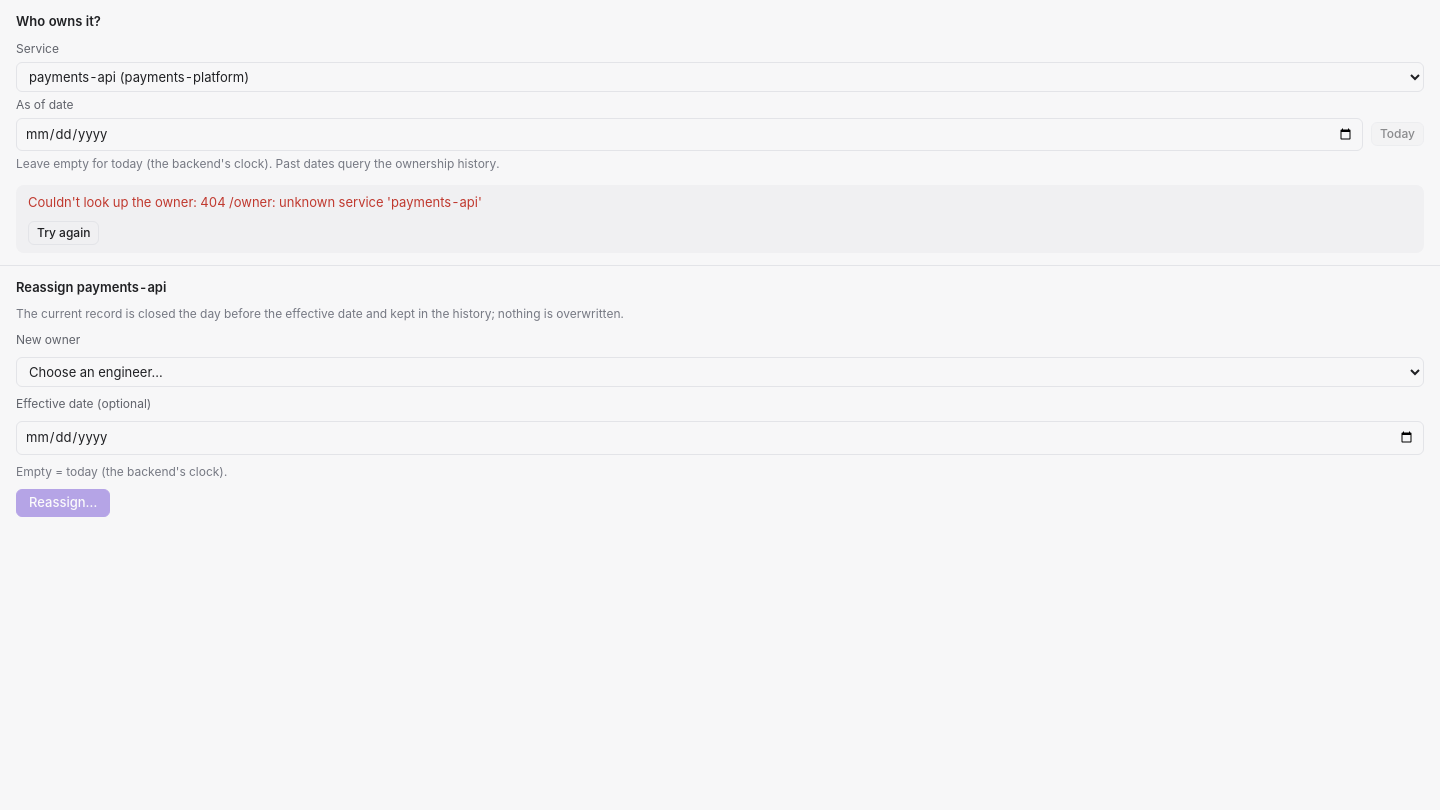
Scenario: OwnersPanel lookup › shows an error with retry, never a substitute owner
This screenshot has width=1440, height=810.
Expected: the text "Couldn't look up the owner: 404" is shown, [28,193,482,212]
Expected: the text "Asha Menon" is not shown
Click the button "Try again" at (64, 232), box [28,220,99,244]
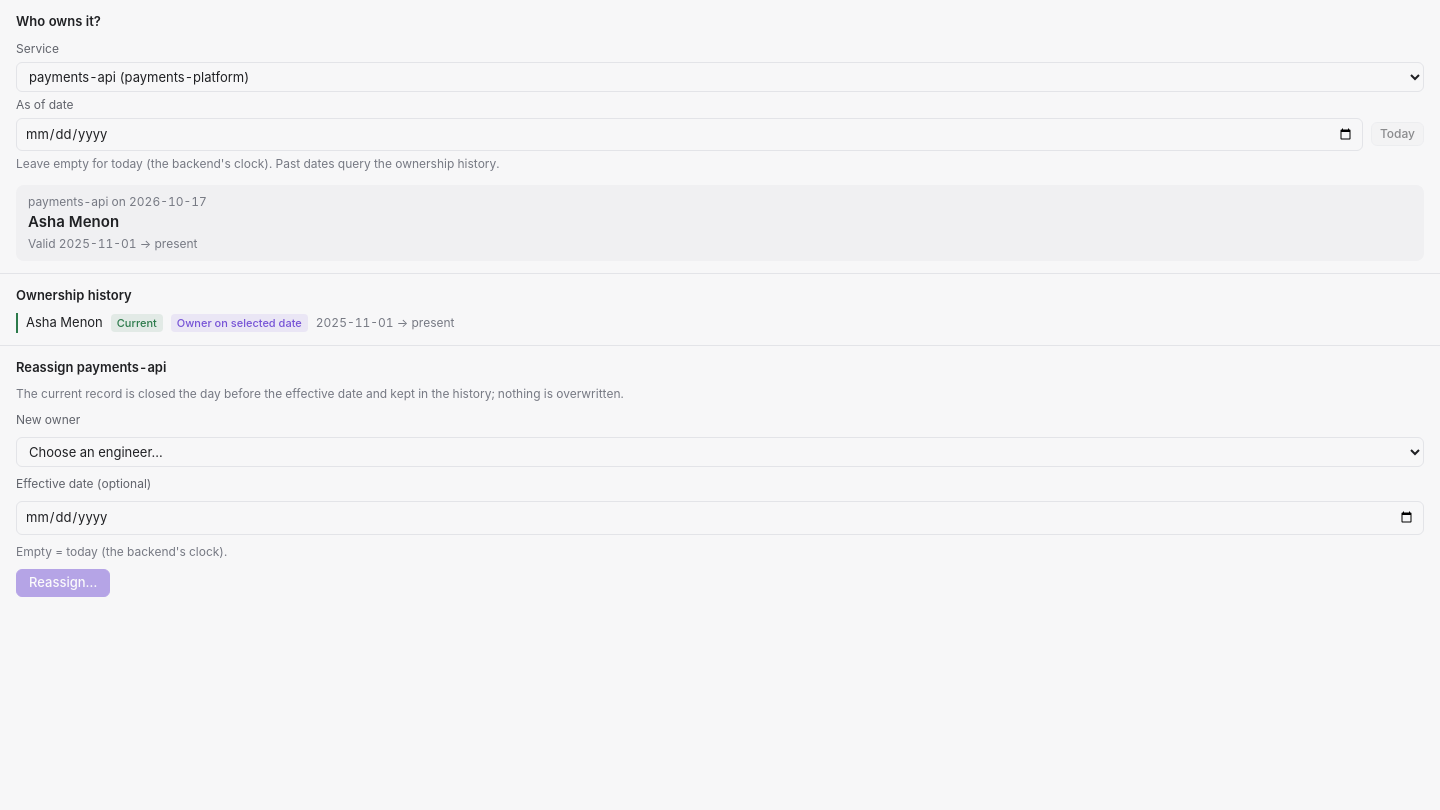
Expected: the text "Asha Menon" below "2026-10-17" is shown, [28,212,119,231]
